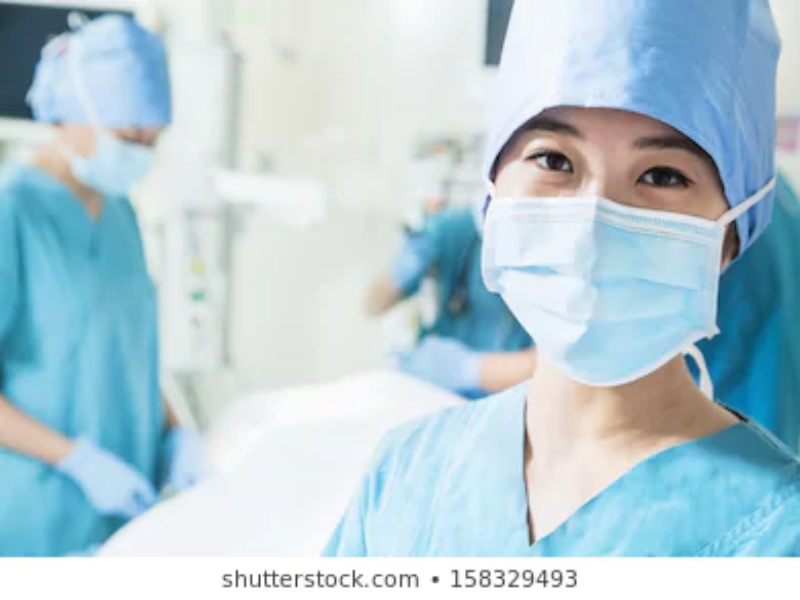ManaoArotava: (482, 78, 749, 402)
